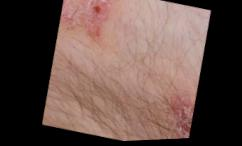plaque psoriasis: (55, 0, 125, 46)
